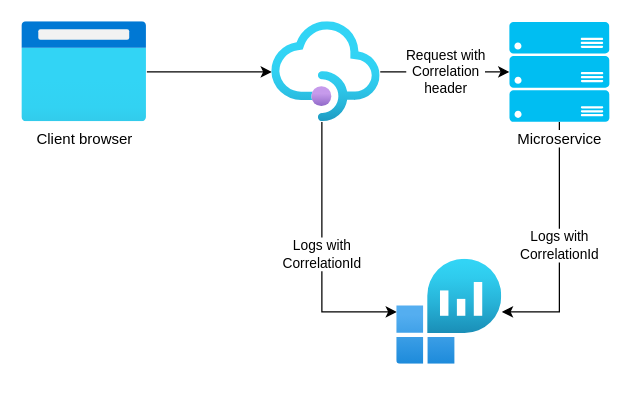
Image size: 630x411. Some labels were removed from this diagram. The box of each missing label's shape, as (x1, y1, x2, y2) in pixels:
API: (271, 21, 380, 121)
Central Logging Service: (396, 259, 501, 364)
